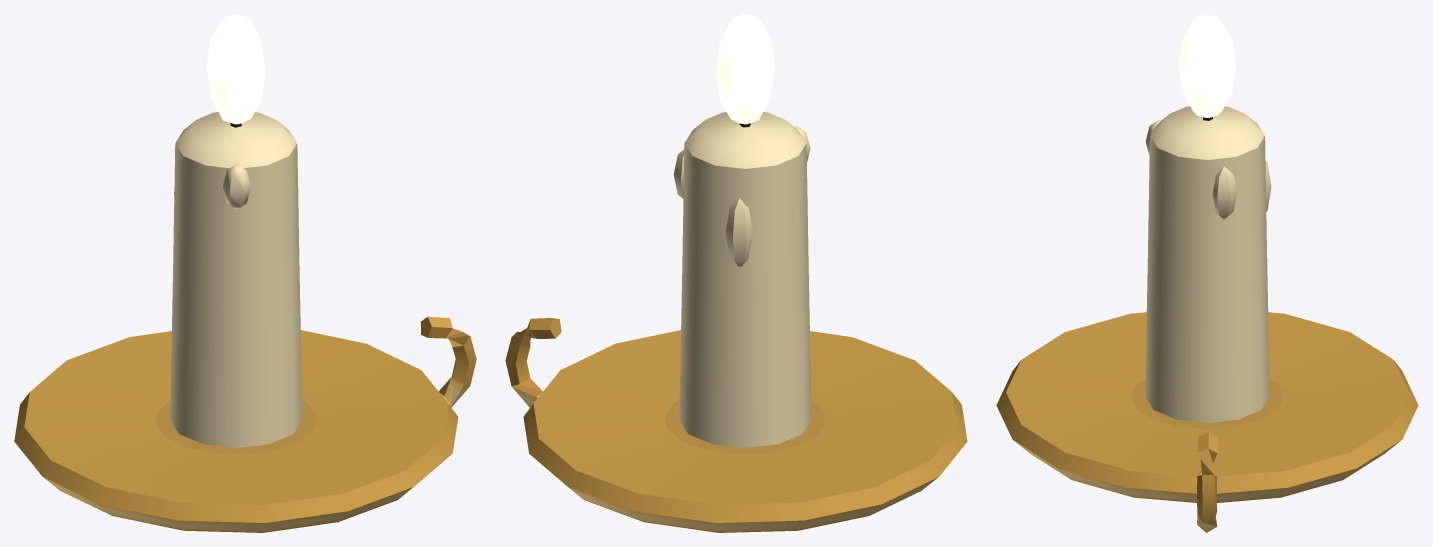
File: Decor_Candle.fbx
3 renders of one model, left to right at view 1: azimuth 30°, elevation 25°; view 2: azimuth 150°, elevation 25°; view 3: azimuth 270°, elevation 25°, orthographic. The views are drawn at different scales.
Visible parts, largest first — view 1: Decor_Candle; view 2: Decor_Candle; view 3: Decor_Candle.
Part boxes in pixels (bbox=[...]): Decor_Candle: bbox=[14, 14, 476, 532]; Decor_Candle: bbox=[505, 14, 967, 532]; Decor_Candle: bbox=[996, 14, 1418, 532].
Bounding box in the file's own units: 0.4898 × 0.4905 × 0.44.
Materials: 2 (1 with a texture image).
